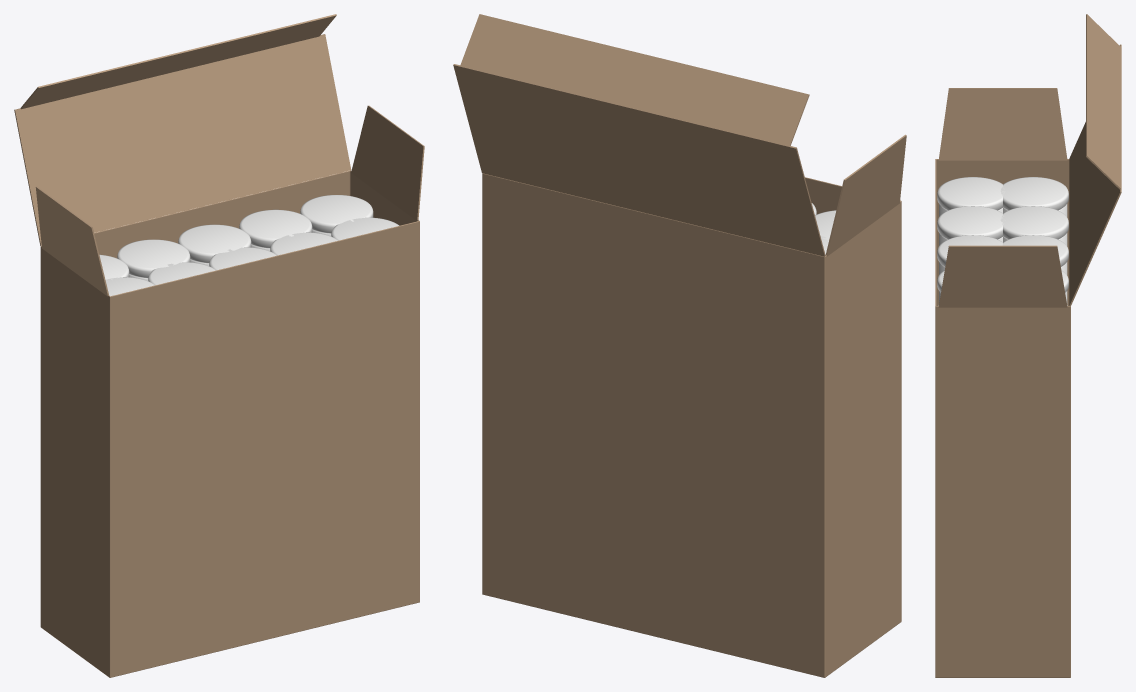
File: preroll-slims-open.glb
3 views of the same model, side by side, from view 1: azimuth 30°, elevation 25°; view 2: azimuth 150°, elevation 25°; view 3: azimuth 270°, elevation 25° (orthographic). The views are drawn at different scales.
Parts seen in each view (by area): view 1: sstd_body, sstd_lid, sstd_tuck, sstd_dustp1, sstd_dustp-1, t12_lid, t11_lid, t13_lid, t14_lid, t-14_lid, t-13_lid, t-11_lid (+2 smaller); view 2: sstd_body, sstd_lid, sstd_tuck, sstd_dustp-1; view 3: sstd_body, sstd_dustp-1, sstd_dustp1, sstd_tuck, sstd_lid, t10_lid, t11_lid, t-11_lid, t-10_lid, t12_lid, t-12_lid.
Part boxes in pixels (x1=…): sstd_body: x1=40, y1=170, x2=419, y2=677; sstd_lid: x1=14, y1=34, x2=351, y2=245; sstd_tuck: x1=20, y1=14, x2=336, y2=109; sstd_dustp1: x1=351, y1=105, x2=424, y2=221; sstd_dustp-1: x1=35, y1=186, x2=109, y2=296; t12_lid: x1=178, y1=224, x2=251, y2=263; t11_lid: x1=117, y1=239, x2=190, y2=278; t13_lid: x1=239, y1=209, x2=312, y2=248; t14_lid: x1=300, y1=195, x2=373, y2=233; t-14_lid: x1=331, y1=217, x2=399, y2=240; t-13_lid: x1=270, y1=232, x2=337, y2=255; t-11_lid: x1=148, y1=262, x2=215, y2=285; sstd_body: x1=482, y1=173, x2=901, y2=677; sstd_lid: x1=453, y1=64, x2=825, y2=256; sstd_tuck: x1=460, y1=14, x2=809, y2=146; sstd_dustp-1: x1=825, y1=134, x2=906, y2=256; sstd_body: x1=935, y1=159, x2=1070, y2=677; sstd_dustp-1: x1=938, y1=88, x2=1067, y2=160; sstd_dustp1: x1=938, y1=245, x2=1067, y2=307; sstd_tuck: x1=1086, y1=14, x2=1121, y2=189; sstd_lid: x1=1069, y1=44, x2=1121, y2=306; t10_lid: x1=1000, y1=177, x2=1068, y2=210; t11_lid: x1=1000, y1=206, x2=1068, y2=239; t-11_lid: x1=937, y1=206, x2=1005, y2=239; t-10_lid: x1=937, y1=177, x2=1004, y2=210; t12_lid: x1=1002, y1=235, x2=1068, y2=266; t-12_lid: x1=937, y1=235, x2=1002, y2=266.
Size of the model in its own units: 0.1106 by 0.1691 by 0.055.
